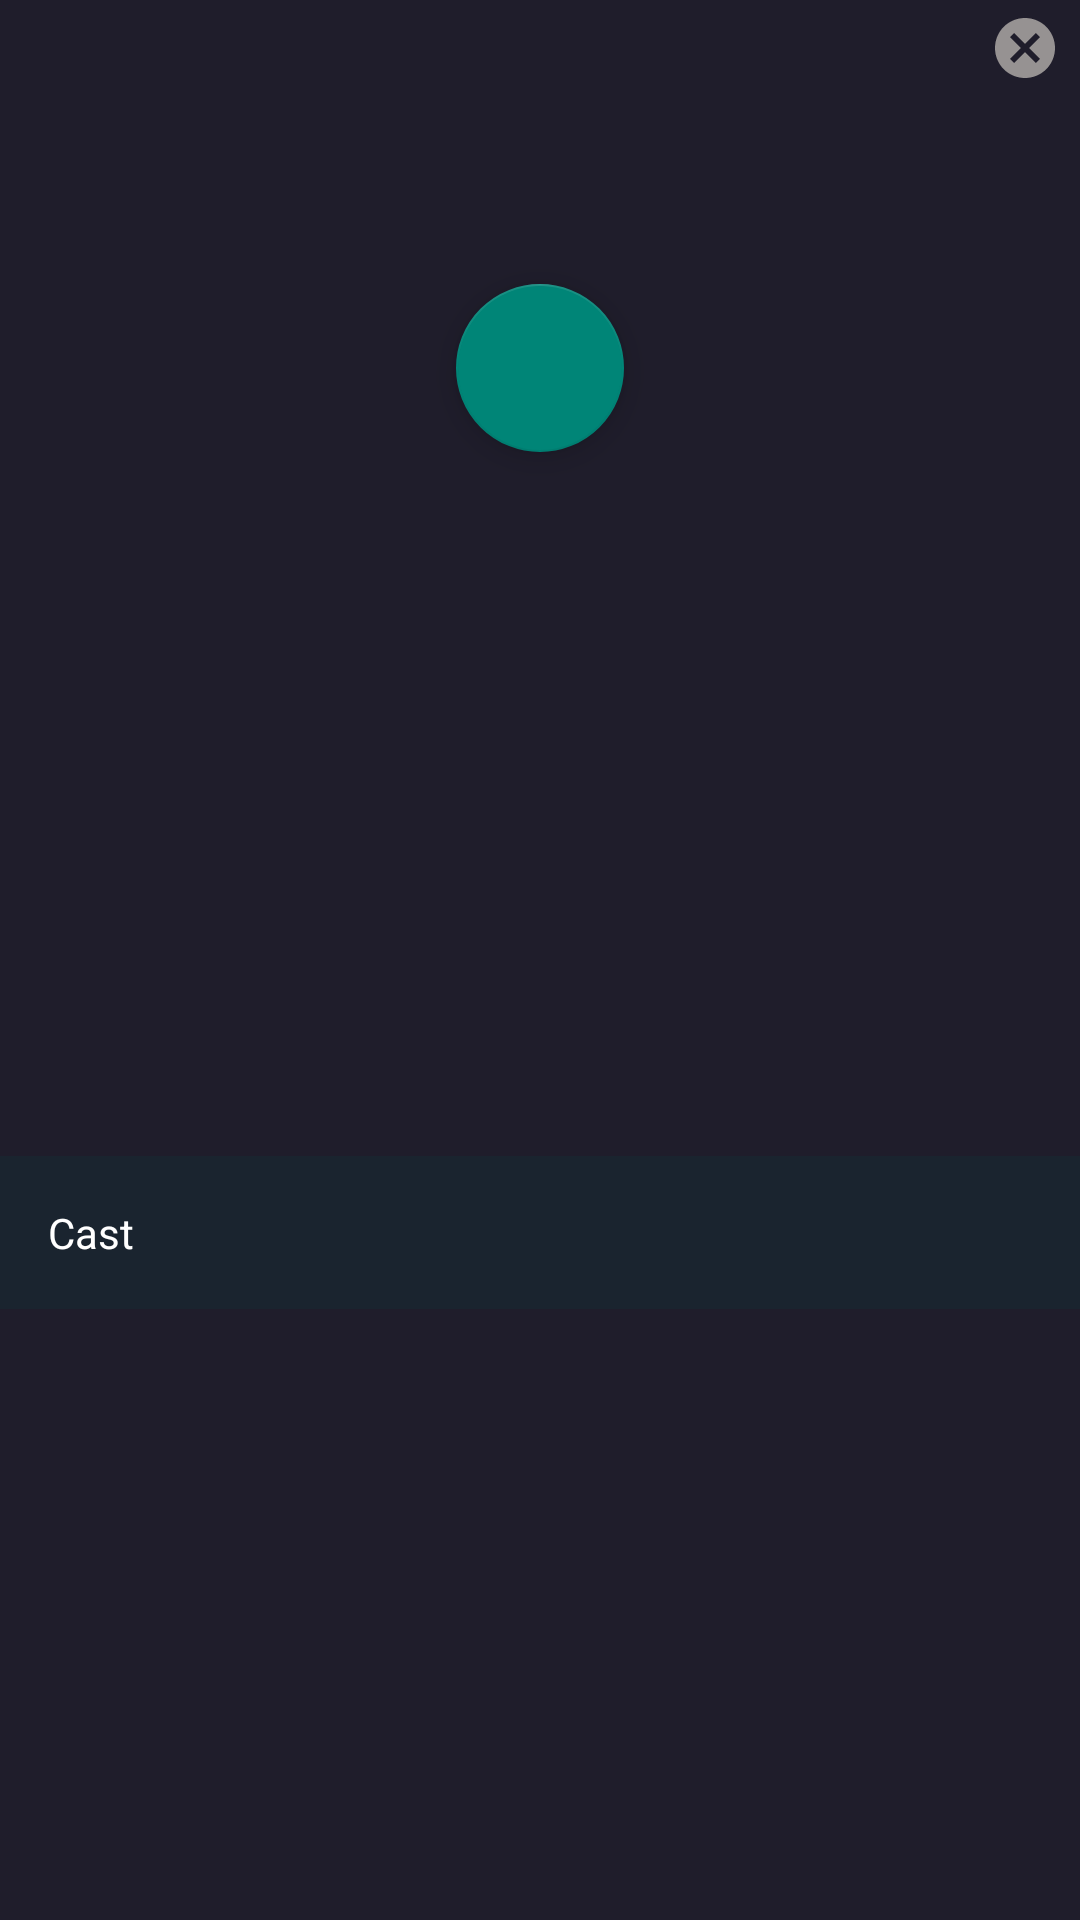

Locate icon controls on the screen. Image size 1080 x 1920, boxes as box(x1, y1, x2, y2).
cancel: box(995, 18, 1055, 78)
